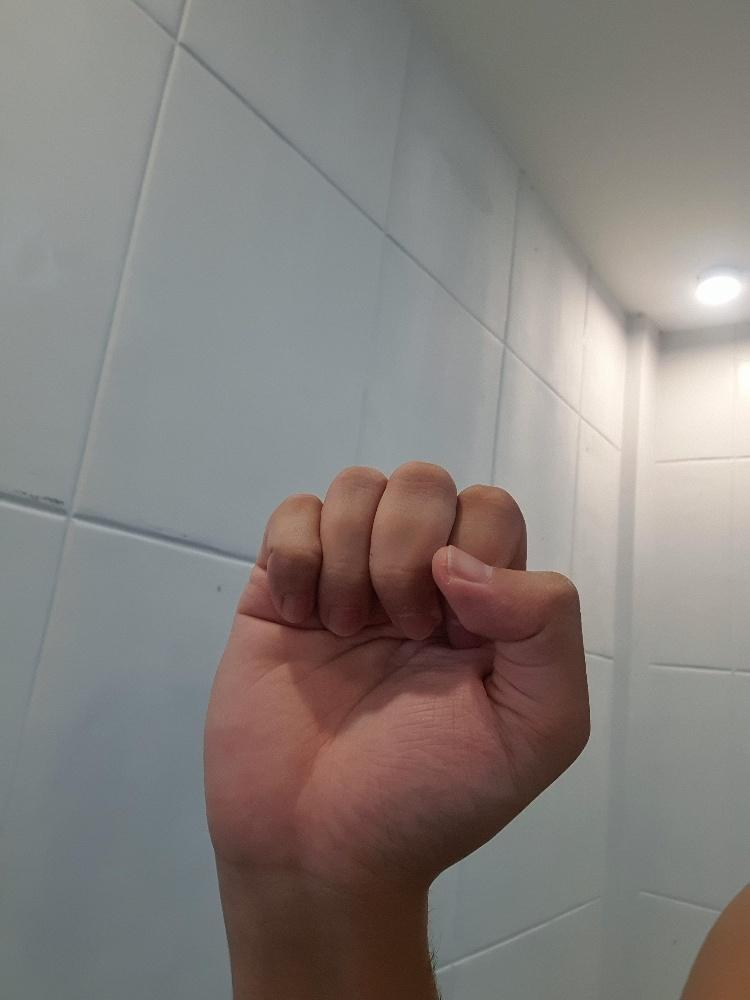s: (199, 455, 598, 892)
